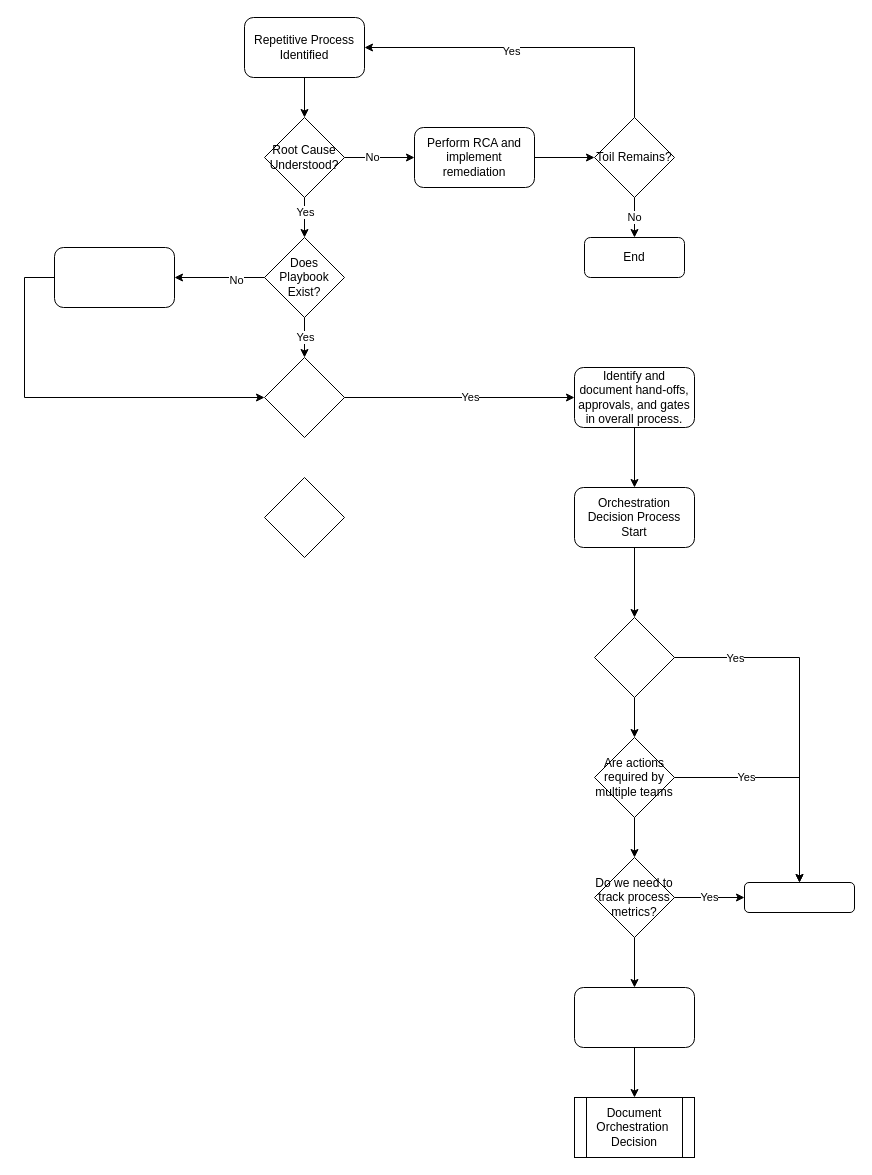
The diagram is 872 pixels wide and 1175 high, and some of its shapes have lost their labels. The shapes that lost their labels are listed below. From the top down, each one's box as (x1, y1, x2, y2) in pixels, then its label:
(54, 246, 174, 308): Fully document process.
(264, 356, 344, 438): Are Multiple People, Processes or Teams Involved
(594, 616, 674, 698): Does the process contain approval gates
(744, 882, 854, 912): ServiceNow
(574, 986, 694, 1048): Identify Alternative Tool
